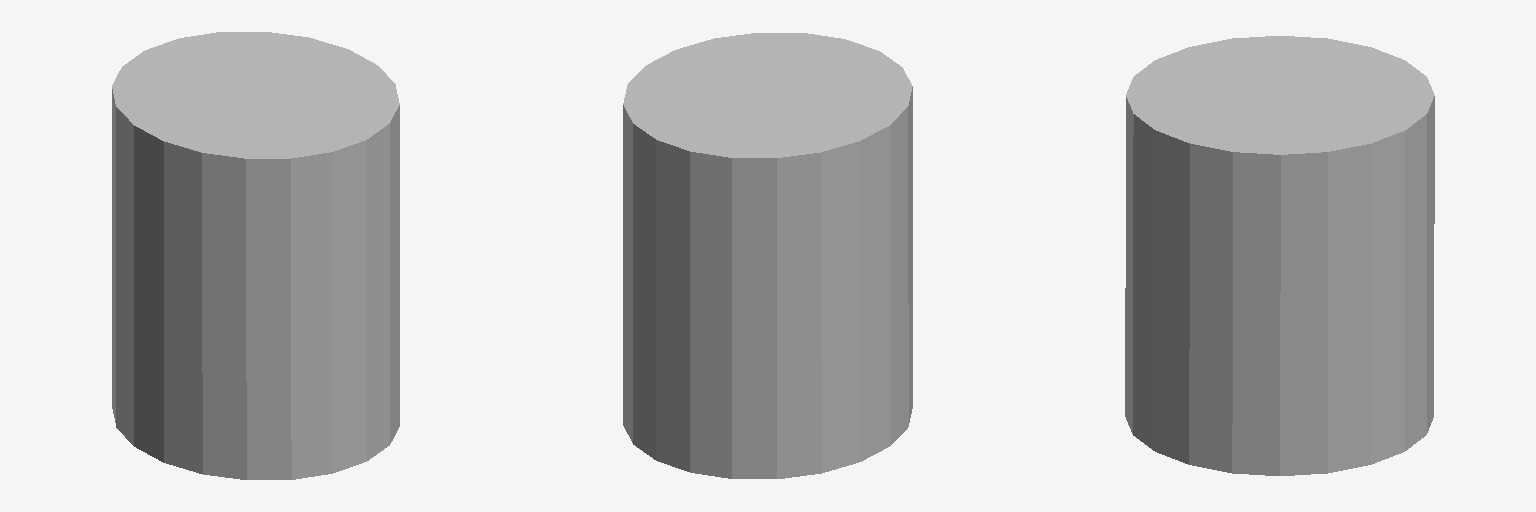
The model's file is EasterEgg4,5,6.obj.
3 views of the same model, side by side, from view 1: azimuth 30°, elevation 25°; view 2: azimuth 150°, elevation 25°; view 3: azimuth 270°, elevation 25° (orthographic).
Parts seen in each view (by area): view 1: canned_food_5:pCylinder1; view 2: canned_food_5:pCylinder1; view 3: canned_food_5:pCylinder1.
Part boxes in pixels (bbox=[...]): canned_food_5:pCylinder1: bbox=[112, 32, 399, 479]; canned_food_5:pCylinder1: bbox=[623, 33, 912, 478]; canned_food_5:pCylinder1: bbox=[1125, 36, 1434, 475].
Size of the model in its own units: 0.6785 by 0.8532 by 0.7434.